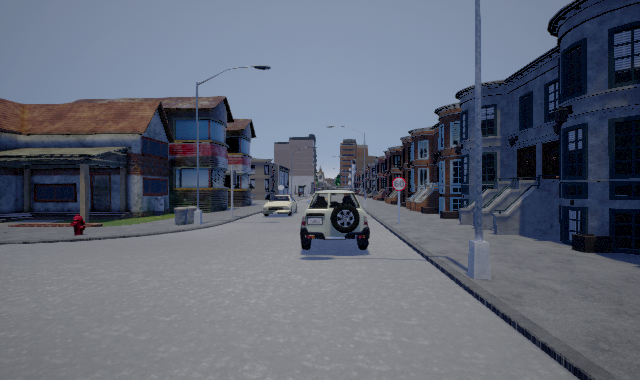traffic_sign: (392, 177, 406, 191)
vehicle: (300, 188, 370, 250), (262, 195, 298, 217)
